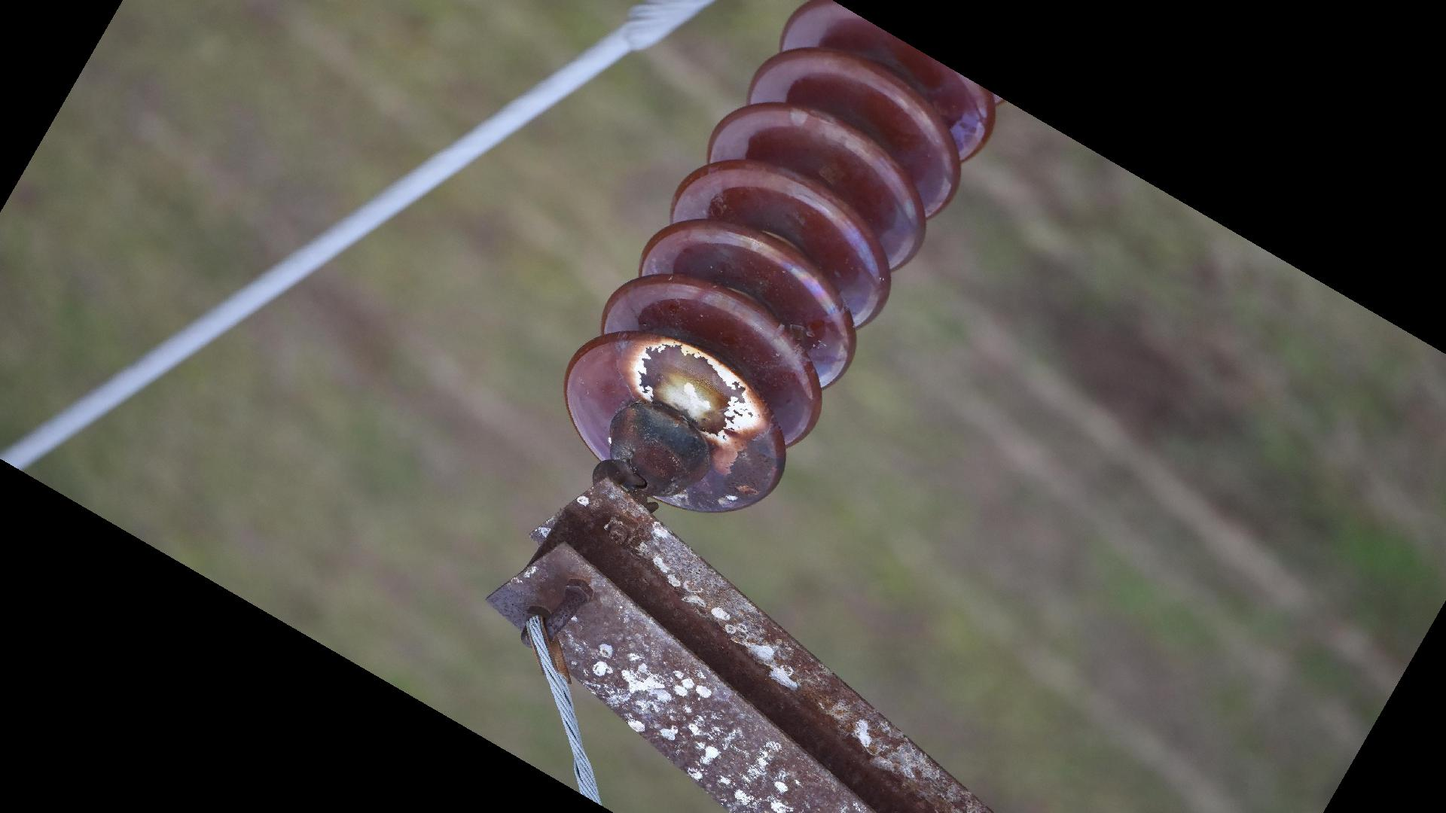insulator: (557, 1, 1006, 521)
insulator_flashover: (630, 333, 767, 443)
